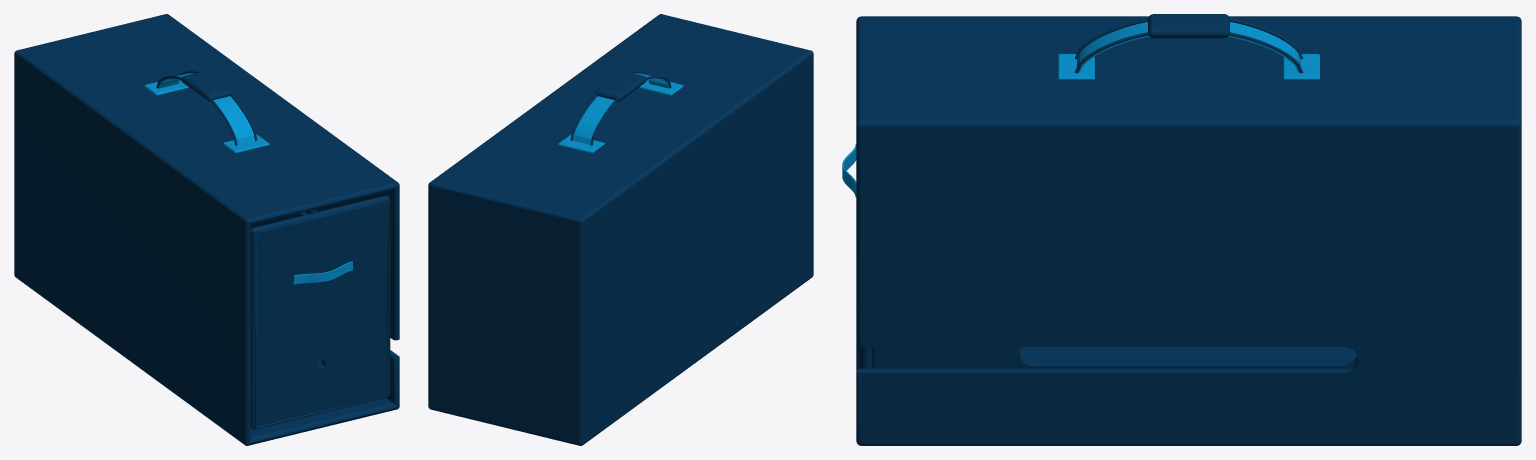
File: belt-volume-6-storage.glb
3 views of the same model, side by side, from view 1: azimuth 30°, elevation 25°; view 2: azimuth 150°, elevation 25°; view 3: azimuth 270°, elevation 25° (orthographic). The views are drawn at different scales.
Parts seen in each view (by area): view 1: Cabinet_side, Cabinet_top, Drawer_front, Cabinet_side.001, Cabinet_bottom, Front_sewn_edge, Carry_handle_webbing, Carry_handle_padded_grip, Drawer_webbing_pull, Cabinet_back, Carry_handle_anchor; view 2: Cabinet_side, Cabinet_back, Cabinet_top, Carry_handle_webbing, Carry_handle_padded_grip, Cabinet_side.001, Carry_handle_anchor.001; view 3: Cabinet_side.001, Cabinet_top, Cabinet_bottom, Drawer_side.001, Carry_handle_padded_grip, Cabinet_back, Carry_handle_webbing, Carry_handle_anchor, Carry_handle_anchor.001, Carry_handle_binding.001.
Part boxes in pixels (<box>): Cabinet_side: <box>15,50,250,445</box>; Cabinet_top: <box>15,14,397,224</box>; Drawer_front: <box>250,195,390,429</box>; Cabinet_side.001: <box>166,14,399,409</box>; Cabinet_bottom: <box>15,275,397,445</box>; Front_sewn_edge: <box>255,200,389,428</box>; Carry_handle_webbing: <box>158,73,254,144</box>; Carry_handle_padded_grip: <box>181,71,232,101</box>; Drawer_webbing_pull: <box>293,261,352,284</box>; Cabinet_back: <box>14,14,166,275</box>; Carry_handle_anchor: <box>223,134,269,153</box>; Cabinet_side: <box>579,50,813,445</box>; Cabinet_back: <box>428,182,583,445</box>; Cabinet_top: <box>432,14,812,218</box>; Carry_handle_webbing: <box>573,73,669,144</box>; Carry_handle_padded_grip: <box>595,71,646,101</box>; Cabinet_side.001: <box>428,14,661,409</box>; Carry_handle_anchor.001: <box>558,134,604,153</box>; Cabinet_side.001: <box>856,120,1521,445</box>; Cabinet_top: <box>856,17,1516,128</box>; Cabinet_bottom: <box>856,345,1515,442</box>; Drawer_side.001: <box>872,347,1358,368</box>; Carry_handle_padded_grip: <box>1148,14,1229,38</box>; Cabinet_back: <box>1516,16,1521,445</box>; Carry_handle_webbing: <box>1077,22,1300,72</box>; Carry_handle_anchor: <box>1058,54,1094,80</box>; Carry_handle_anchor.001: <box>1283,54,1319,80</box>; Carry_handle_binding.001: <box>1075,32,1302,73</box>.
Size of what is drawn, in the model's own units: 0.127 by 0.204 by 0.3372.
3 materials, 3 textured.
